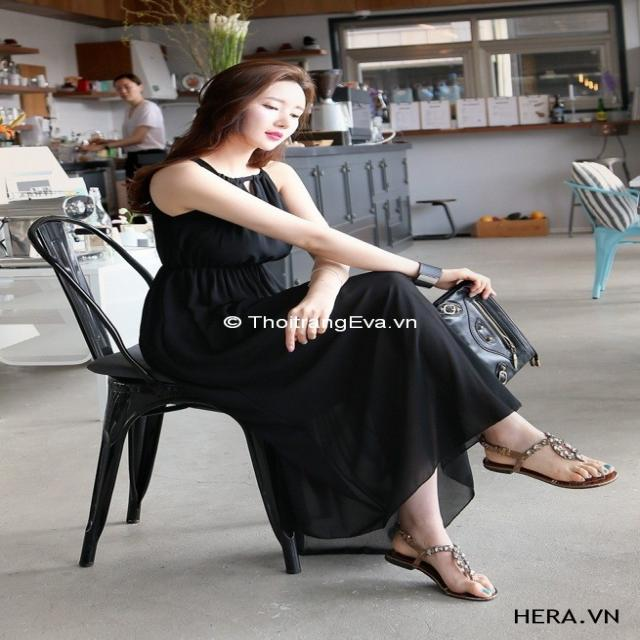clothes: (119, 150, 528, 556)
